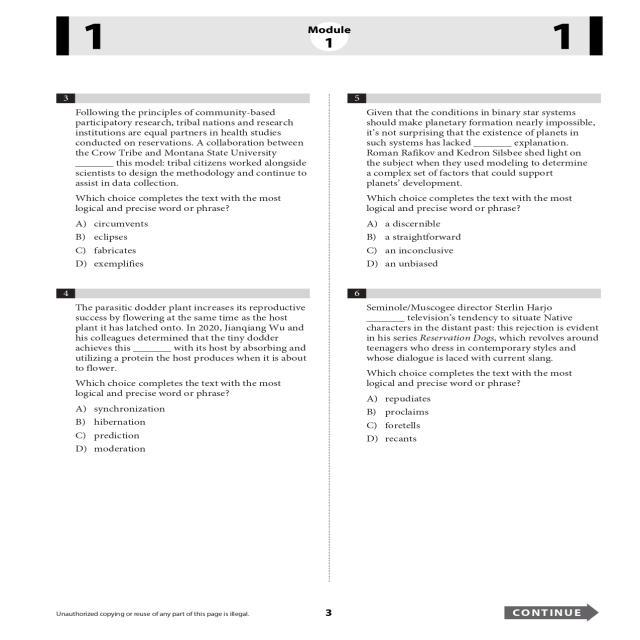Answer_Block: (334, 388, 614, 452), (51, 400, 322, 460), (51, 217, 322, 276), (334, 218, 614, 270)
Question_Answer_Block: (334, 86, 614, 270), (51, 87, 322, 276), (51, 286, 322, 459), (334, 288, 614, 453)
Question_Block: (334, 86, 614, 216), (51, 87, 322, 216), (51, 287, 322, 399), (334, 288, 614, 390)
Question_Paper_Area: (334, 85, 614, 578), (51, 87, 322, 580)
